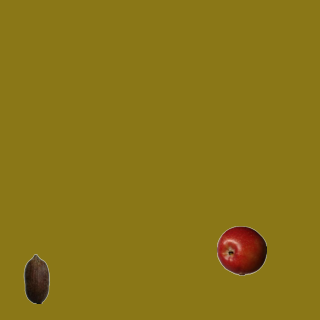Apple Braeburn: (216, 225, 266, 275)
Nut Pecan: (11, 253, 61, 303)
